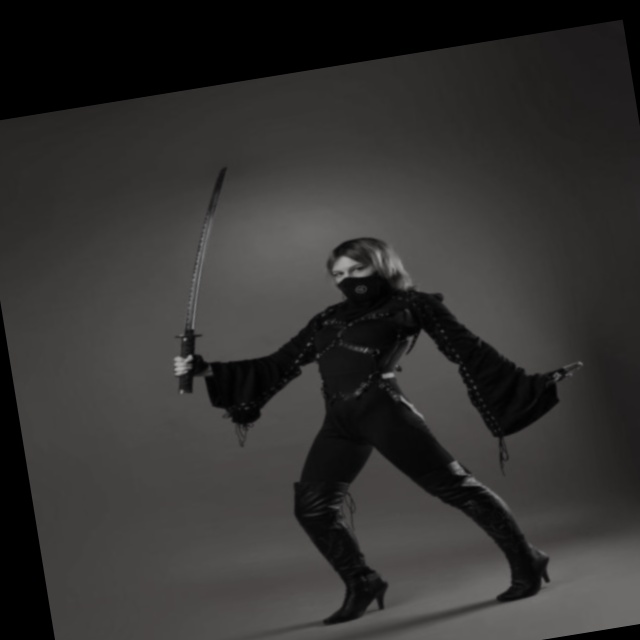Sharp-Object: (140, 162, 266, 389)
